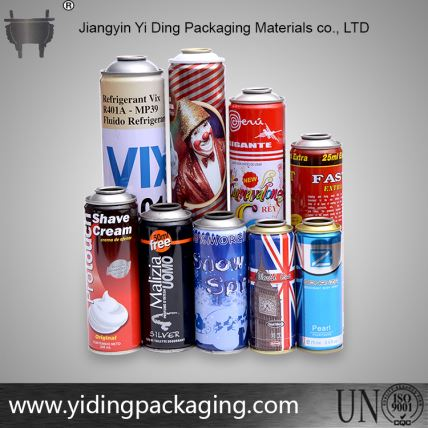Aerosol_cans: (96, 53, 168, 211), (82, 184, 145, 356), (168, 46, 228, 208), (137, 201, 197, 354), (192, 207, 249, 355), (228, 86, 288, 223), (294, 214, 347, 352), (246, 218, 299, 354), (290, 131, 343, 227)
